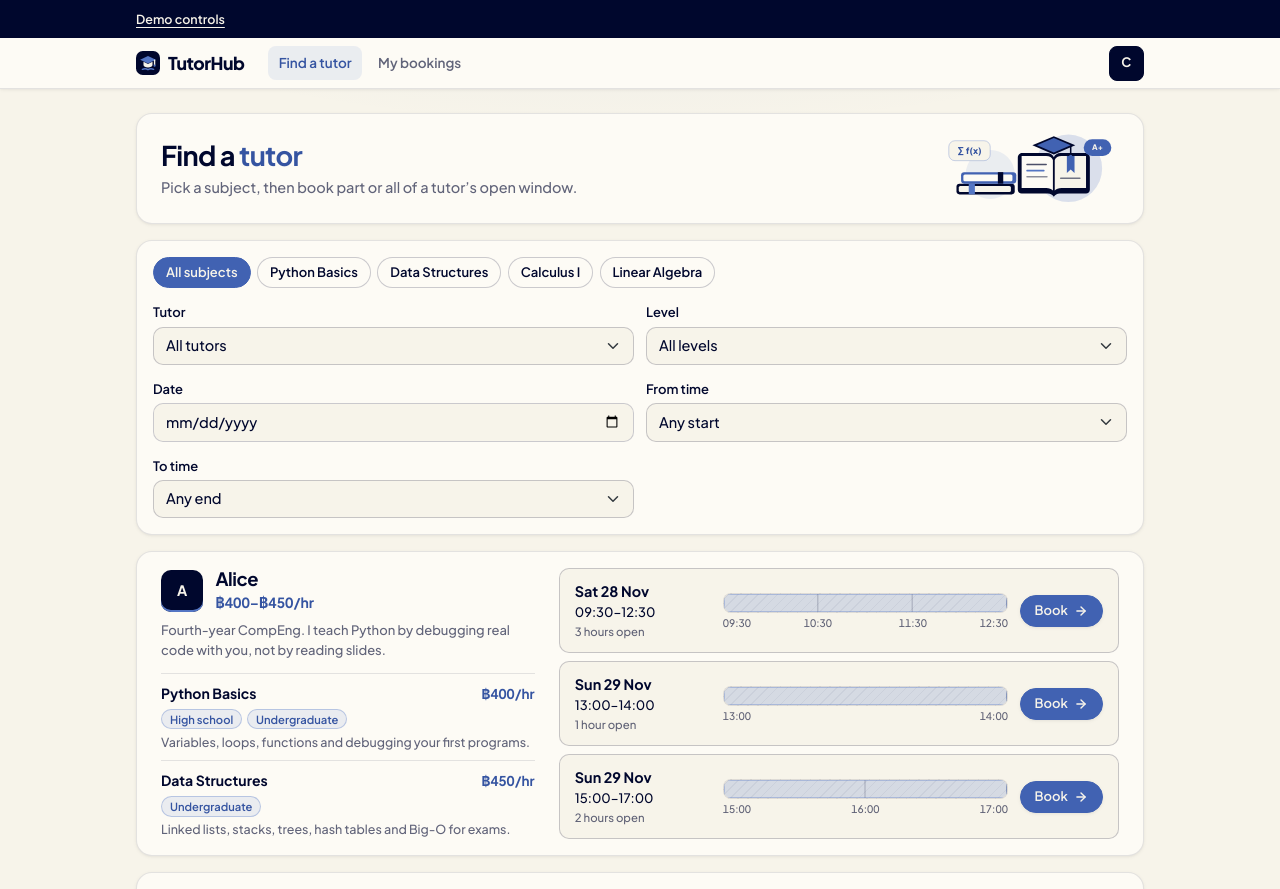
Test: booking modal slot picker, subject pricing and files › opens with no hours chosen and asks the student to pick some
What coordinates should you click on to do the following:
click the button with aria-label "Book Alice on"
I would click on:
 (1061, 611)
Its box is 1020,595 -> 1103,627.
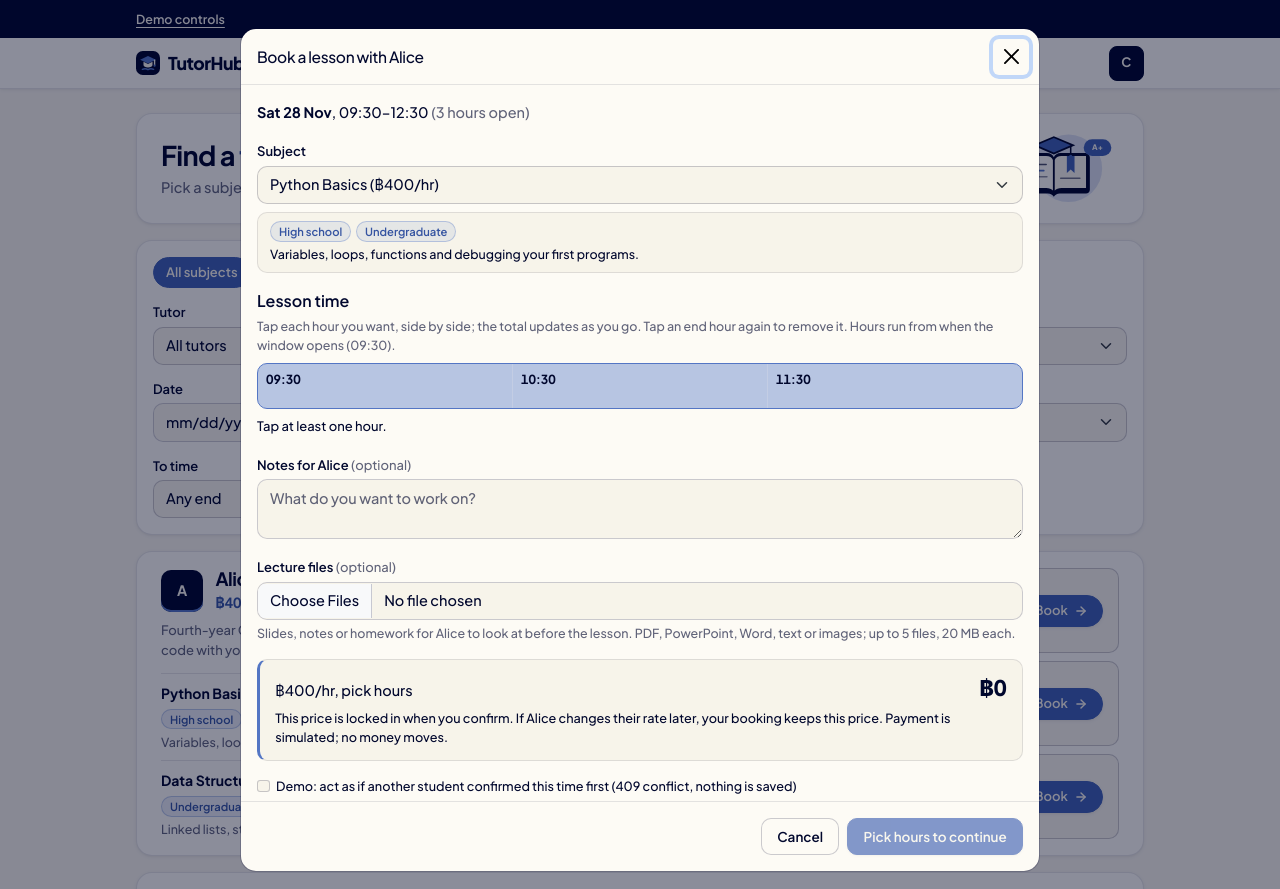
Expected: the button "Pick hours to continue" is disabled, 847,818 -> 1023,855
